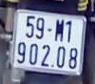0: (28, 43, 40, 67), (56, 46, 66, 68)
1: (66, 19, 74, 43)
2: (40, 44, 52, 68)
5: (26, 14, 35, 39)
8: (69, 47, 80, 70)
9: (15, 40, 28, 66), (35, 16, 45, 40)
M: (53, 17, 65, 42)
